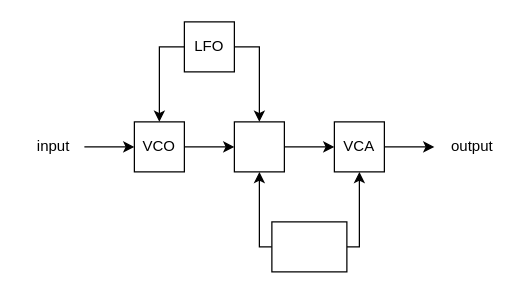
Image size: 530x294. Some labels were removed from this diagram. Here are the shapes that lost their labels. From the top down, the centre of each, then its label:
At point (258, 146): "VCF".
At point (309, 246): "Envelope generator".
